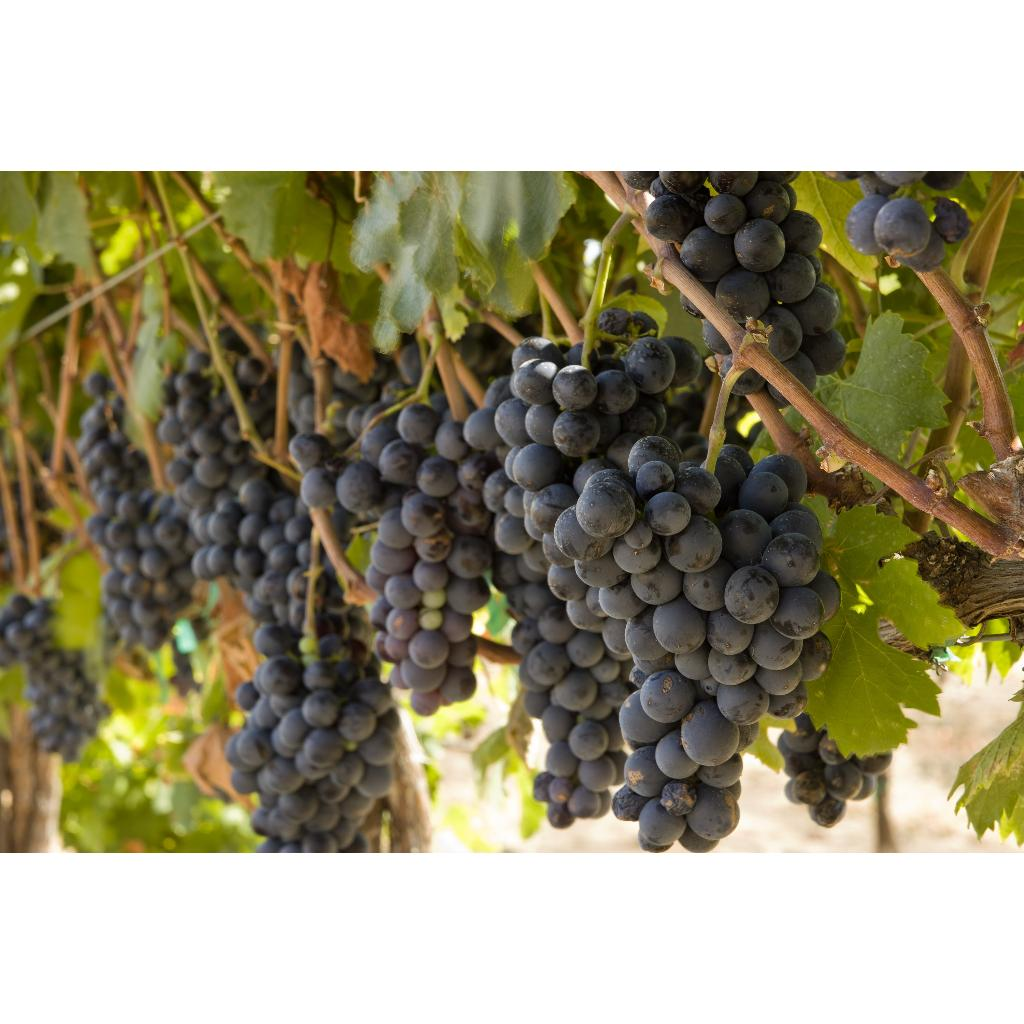grape: (494, 337, 840, 851), (224, 541, 400, 853), (621, 171, 845, 389), (158, 353, 276, 589), (370, 487, 494, 619), (248, 541, 300, 613)
